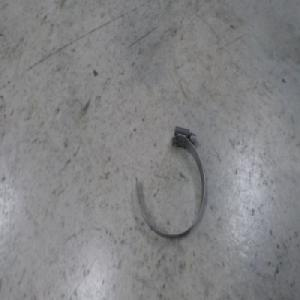AdjustableClamp: (138, 127, 207, 242)
